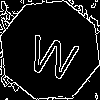W: (25, 25, 83, 82)
